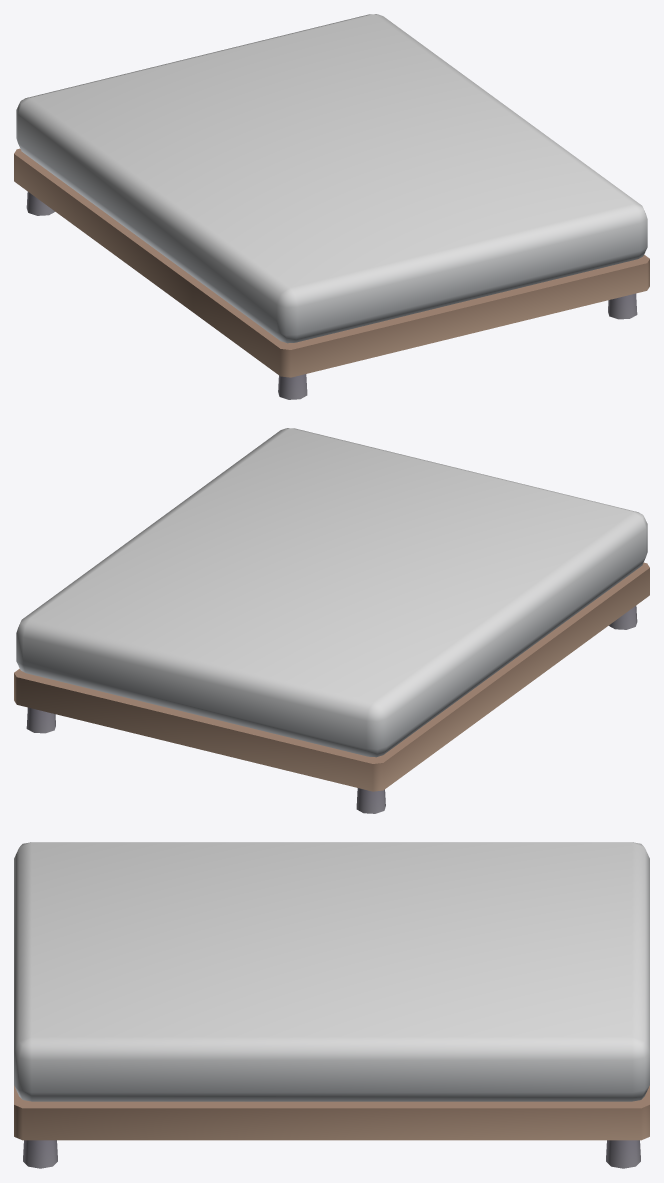
Rendered from bed-matress-double.glb.
3 renders of one model, top to bottom at view 1: azimuth 30°, elevation 25°; view 2: azimuth 150°, elevation 25°; view 3: azimuth 270°, elevation 25°, orthographic. The views are drawn at different scales.
Parts seen in each view (by area): view 1: bed-matress-double; view 2: bed-matress-double; view 3: bed-matress-double.
Part boxes in pixels (box(x1,y1,x2,y2)): bed-matress-double: box(14, 14, 649, 399); bed-matress-double: box(14, 428, 649, 813); bed-matress-double: box(14, 842, 649, 1168).
Bounding box in the file's own units: 1.4 × 0.4 × 1.8.
